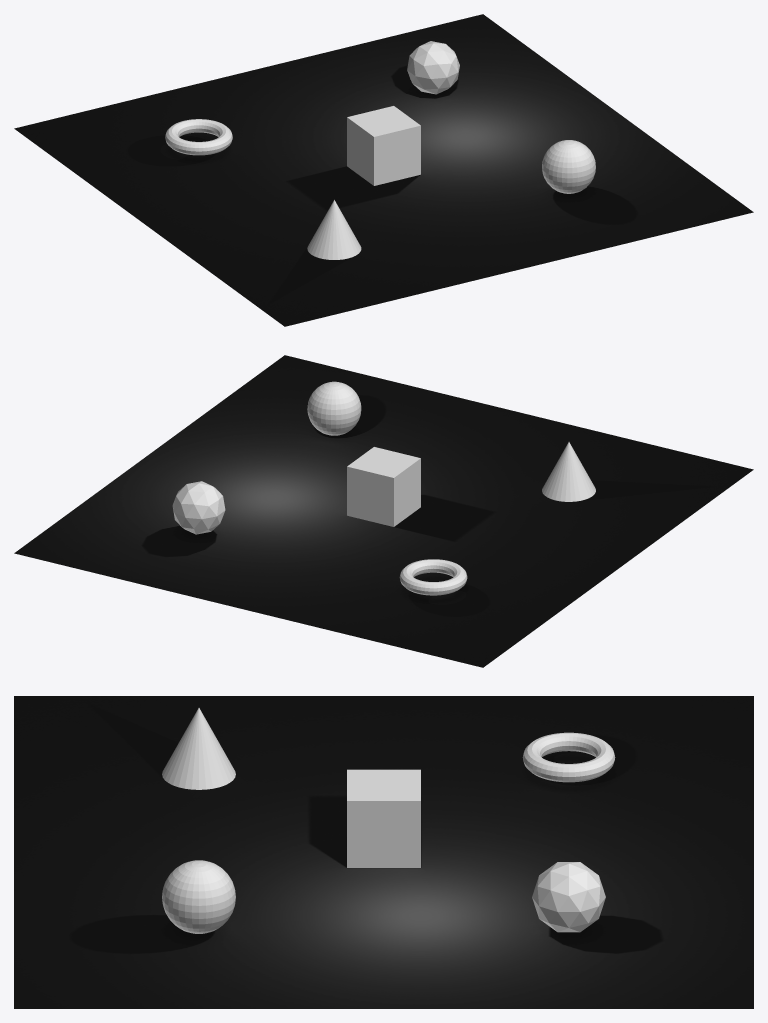
Rendered from week2_3.gltf.
The picture shows the model from 3 angles, top to bottom: view 1: azimuth 30°, elevation 25°; view 2: azimuth 150°, elevation 25°; view 3: azimuth 270°, elevation 25°; orthographic projection. The views are drawn at different scales.
Visible parts, largest first — view 1: Plane, Cube, Sphere, Icosphere, Cone, Torus; view 2: Plane, Cube, Sphere, Icosphere, Cone, Torus; view 3: Plane, Cube, Sphere, Icosphere, Cone, Torus.
Part boxes in pixels (box(x1,y1,x2,y2)): Plane: box(14, 14, 753, 326); Cube: box(347, 106, 420, 185); Sphere: box(542, 140, 595, 193); Icosphere: box(407, 41, 459, 94); Cone: box(307, 200, 361, 259); Torus: box(165, 119, 232, 155); Plane: box(14, 355, 753, 667); Cube: box(347, 447, 420, 526); Sphere: box(307, 381, 361, 435); Icosphere: box(172, 481, 225, 534); Cone: box(542, 442, 595, 501); Torus: box(399, 559, 467, 595); Plane: box(14, 696, 753, 1008); Cube: box(347, 769, 420, 867); Sphere: box(162, 860, 235, 933); Icosphere: box(532, 862, 605, 932); Cone: box(162, 708, 235, 789); Torus: box(522, 732, 615, 782).
Size of the model in its own units: 20 by 2 by 20.
Materials: 6 (1 with a texture image).
